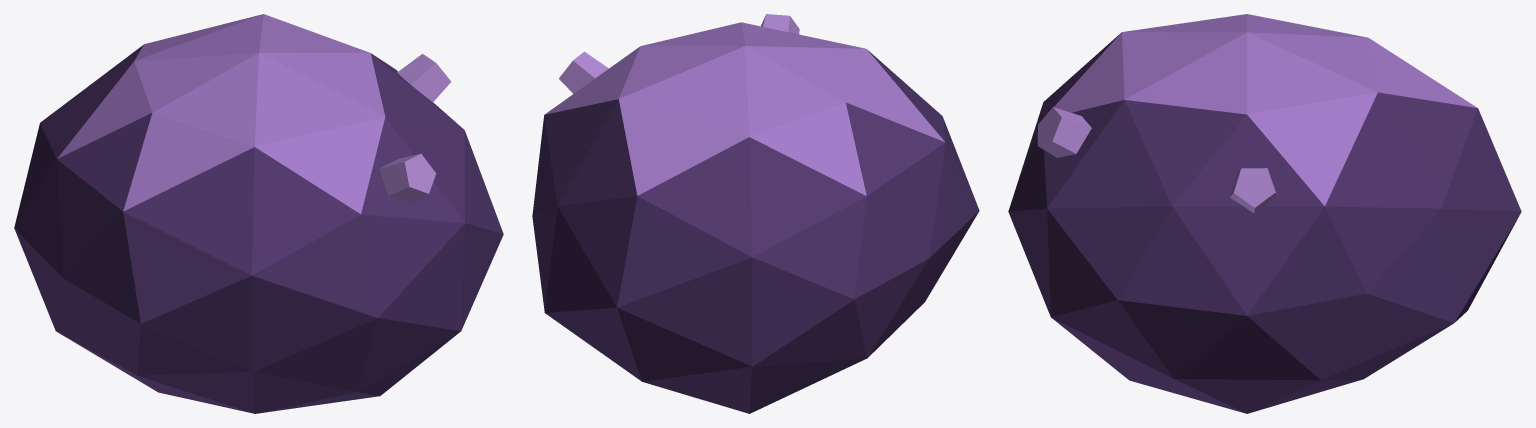
File: glassite_stubs.gltf
3 renders of one model, left to right at view 1: azimuth 30°, elevation 25°; view 2: azimuth 150°, elevation 25°; view 3: azimuth 270°, elevation 25°, orthographic. The views are drawn at different scales.
Parts seen in each view (by area): view 1: rock, crystals; view 2: rock, crystals; view 3: rock, crystals.
Boxes of the visible parts, x1=… form: rock: x1=14, y1=14, x2=503, y2=413; crystals: x1=379, y1=54, x2=451, y2=202; rock: x1=532, y1=22, x2=979, y2=413; crystals: x1=559, y1=14, x2=799, y2=93; rock: x1=1008, y1=14, x2=1521, y2=413; crystals: x1=1037, y1=107, x2=1277, y2=213.
Size of the model in its own units: 4.51 by 3.58 by 4.89.
